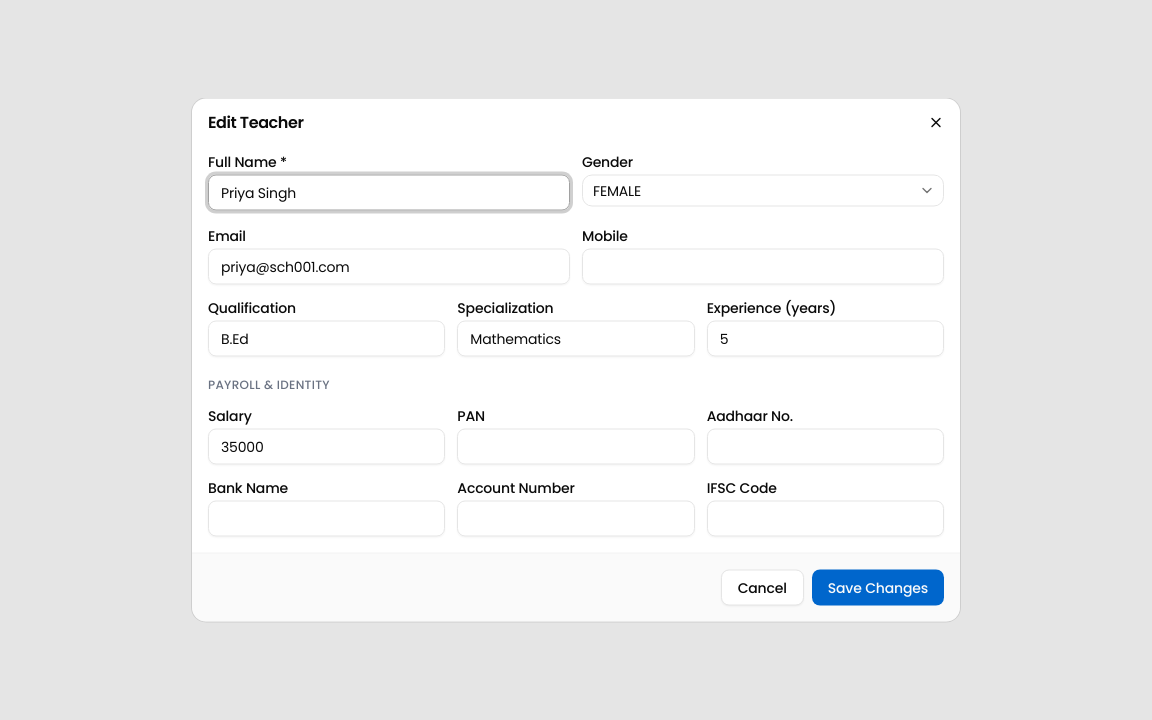
EditTeacherDialog (school-admin) › shows a validation error and does not submit when Name is cleared
Clear the field showing "Priya Singh" below "Full Name *". click: (389, 192)
box: [208,174,570,210]
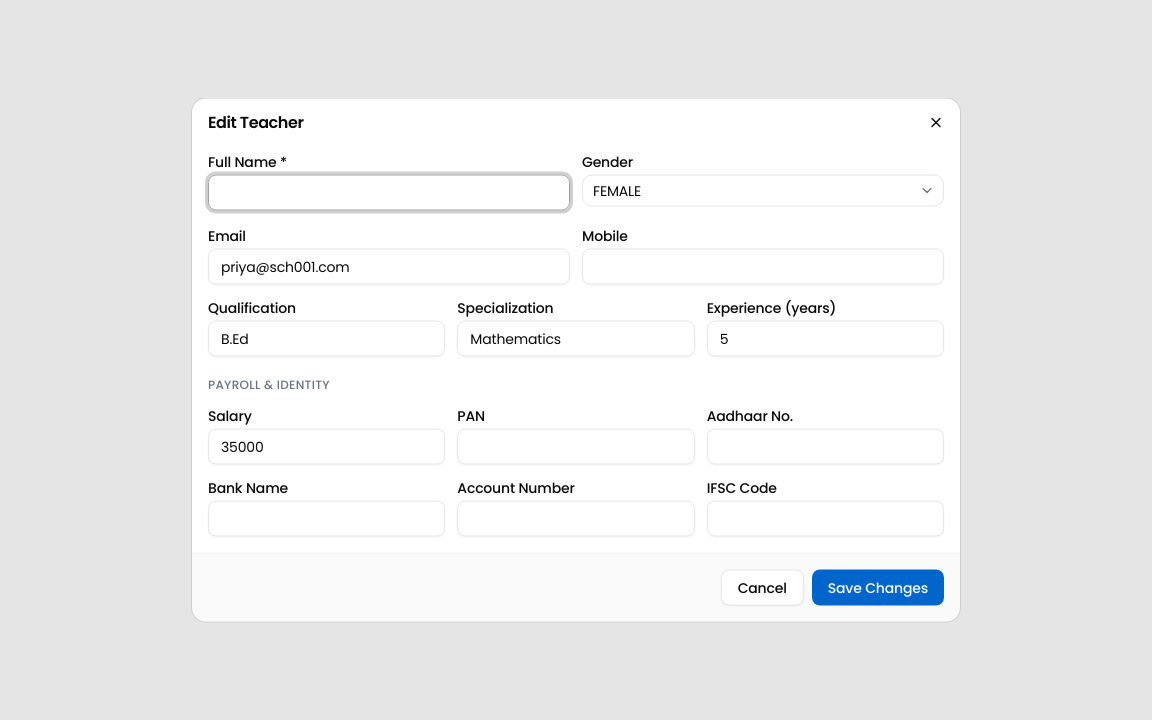
Click the button "Save Changes". click: (878, 588)
box: [812,570,944,606]
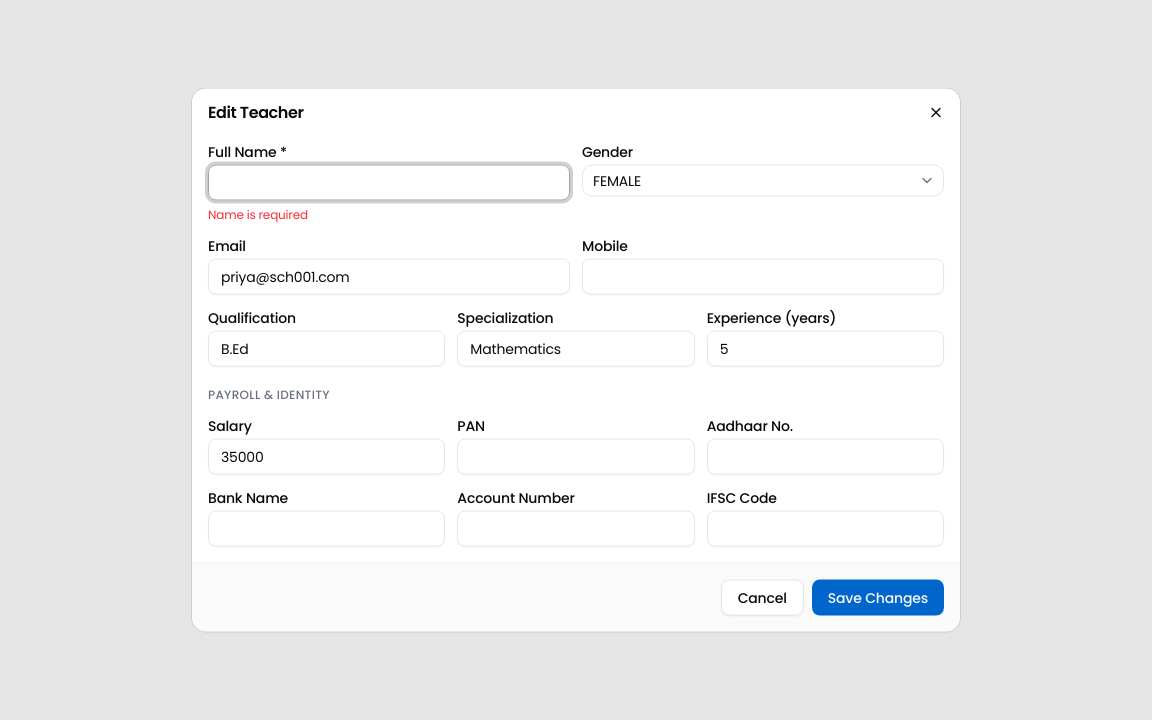
Now the text "Name is required" is shown, box [208,206,308,222]
